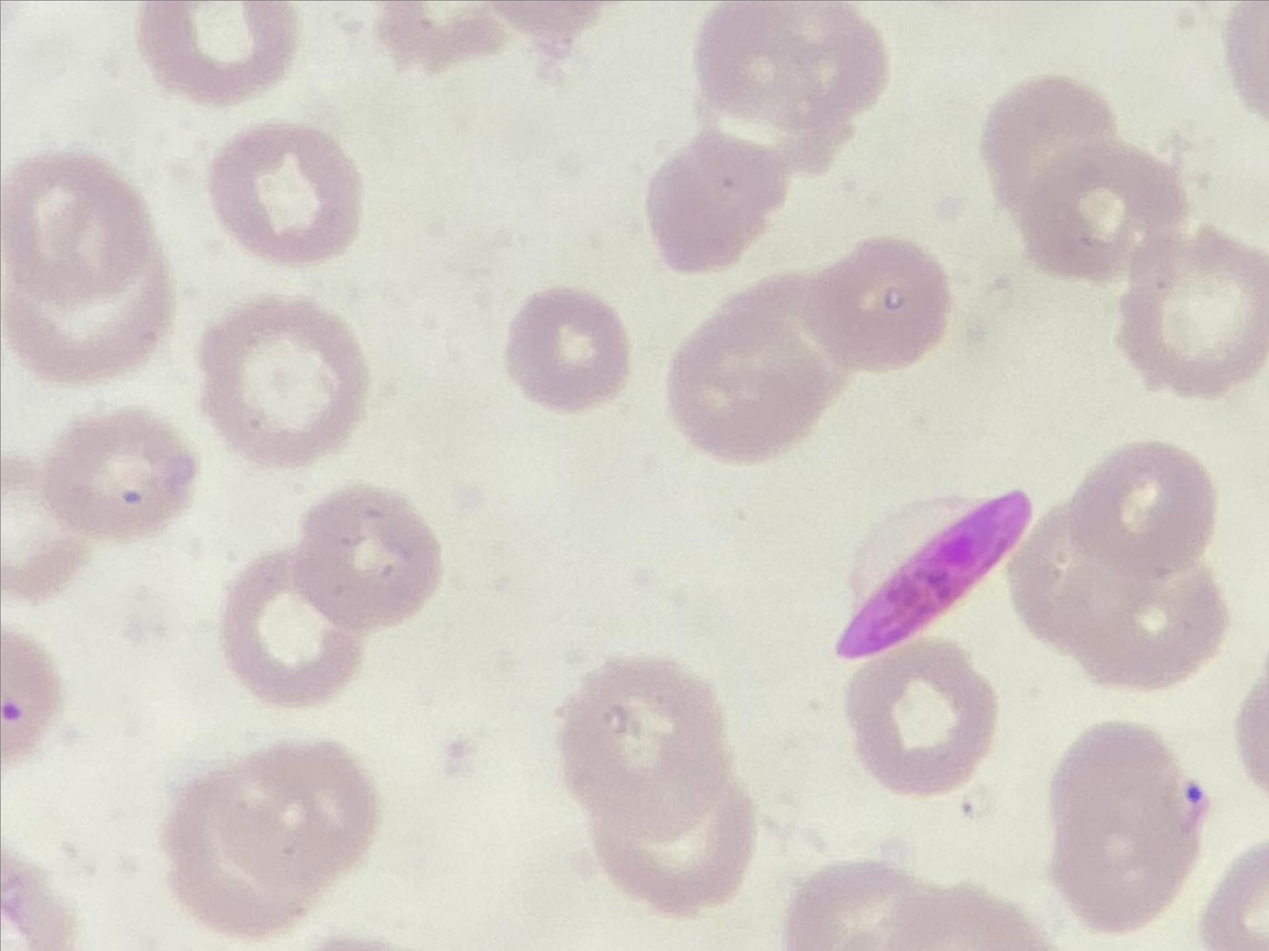Infected: (834, 484, 1034, 660)
Uninfected: (558, 653, 728, 844), (1048, 726, 1193, 933), (198, 294, 364, 465), (1119, 223, 1269, 398), (0, 247, 178, 387), (216, 736, 377, 889), (1023, 137, 1191, 283), (164, 777, 322, 932), (849, 636, 1001, 797), (0, 149, 155, 299), (701, 2, 888, 124), (207, 124, 362, 264), (220, 549, 360, 703), (587, 783, 753, 911), (45, 402, 194, 543), (1072, 441, 1221, 575), (1076, 560, 1227, 692), (297, 494, 442, 631), (805, 237, 950, 373), (983, 73, 1124, 208), (648, 141, 782, 271), (133, 0, 300, 102), (506, 291, 635, 411)
